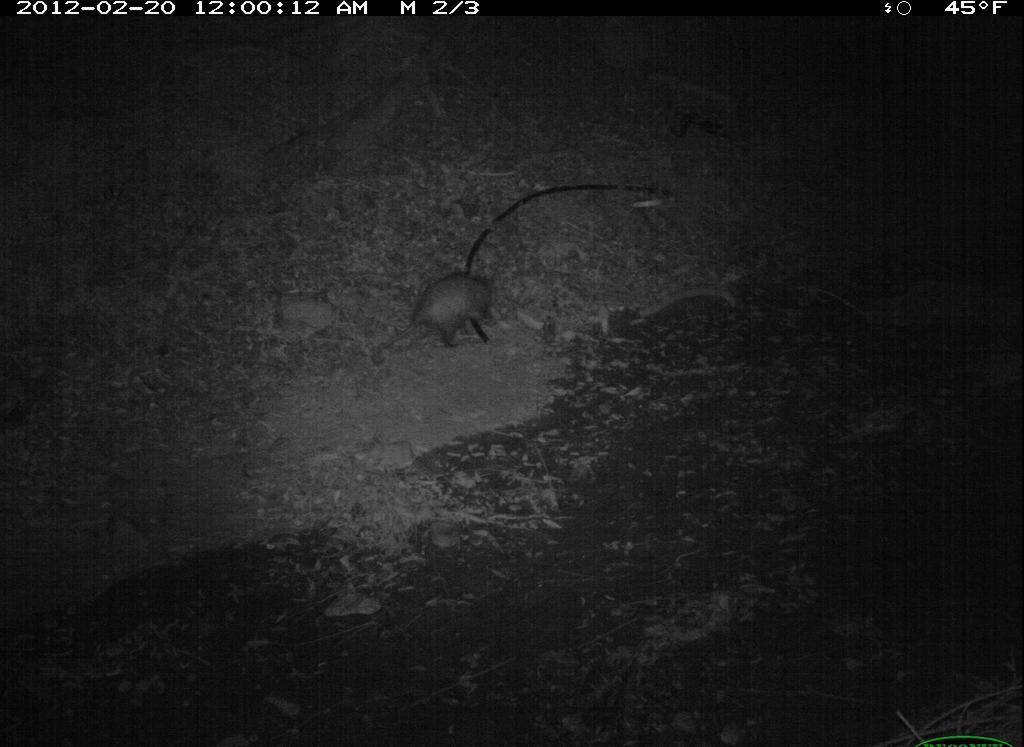opossum: (388, 267, 505, 361)
